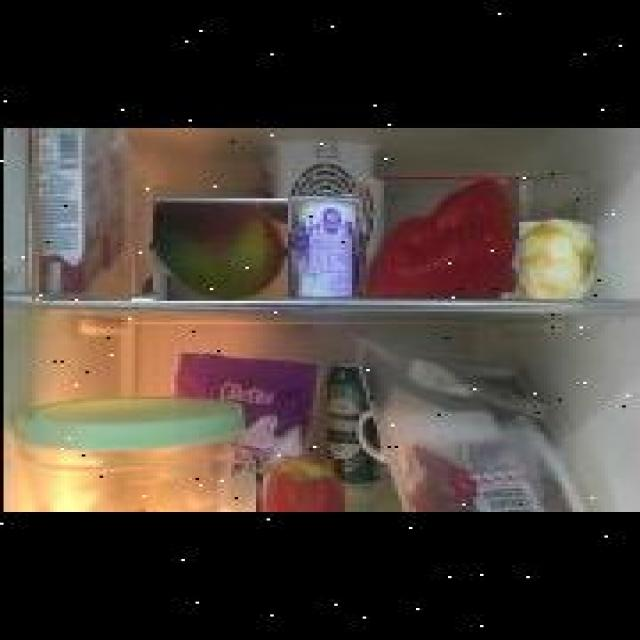apple: (256, 459, 341, 512)
bell_pepper: (357, 178, 514, 293)
heavy_cream: (32, 128, 128, 301)
mango: (153, 198, 288, 301)
yogurt: (284, 196, 356, 299)
